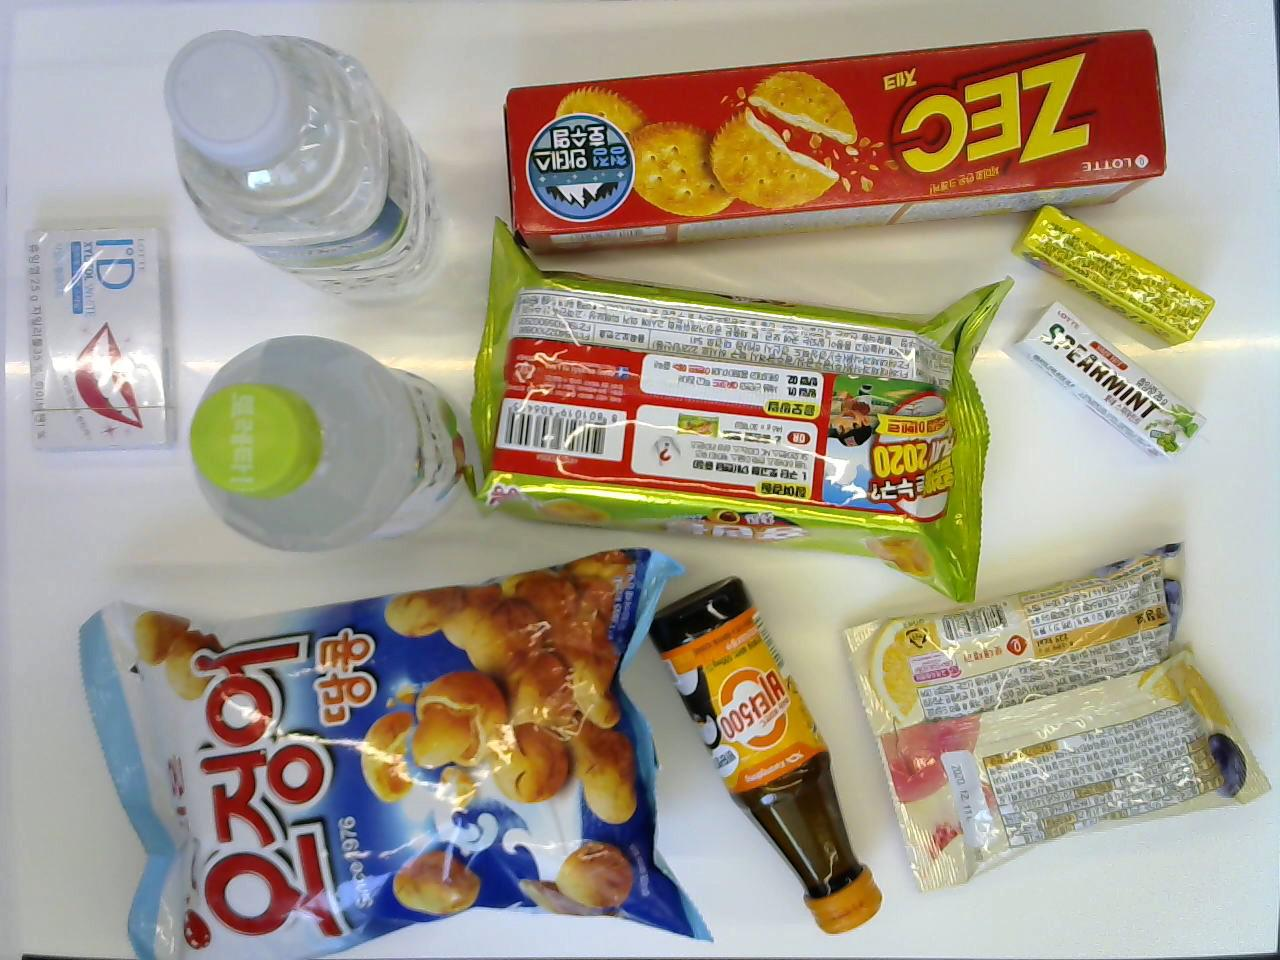ID_gum: (19, 223, 178, 454)
gumi_gumi: (843, 539, 1274, 897)
homerunball: (463, 212, 1012, 605)
juicyfresh: (1012, 203, 1215, 353)
samdasu: (163, 29, 446, 306)
spearmint: (1014, 303, 1209, 461)
squid_peanut: (77, 541, 716, 960)
toreta: (188, 330, 478, 558)
vita500: (649, 574, 883, 937)
zec: (497, 26, 1174, 257)
